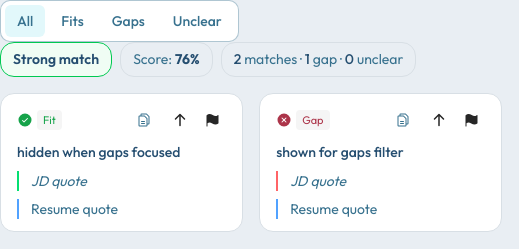
Test: MatchTabContent › shows only Gaps when Gaps tab selected
This screenshot has width=519, height=249.
Click the tab "Gaps" at (128,21), box [100,5,157,37]
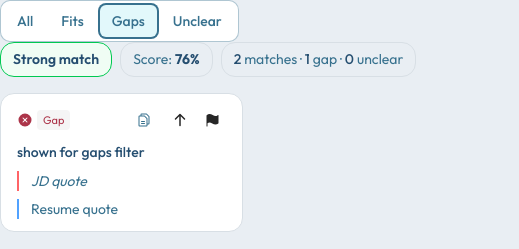
Result: the text "shown for gaps filter" is shown at [17,143,145,161]
Result: the text "hidden when gaps focused" is gone
